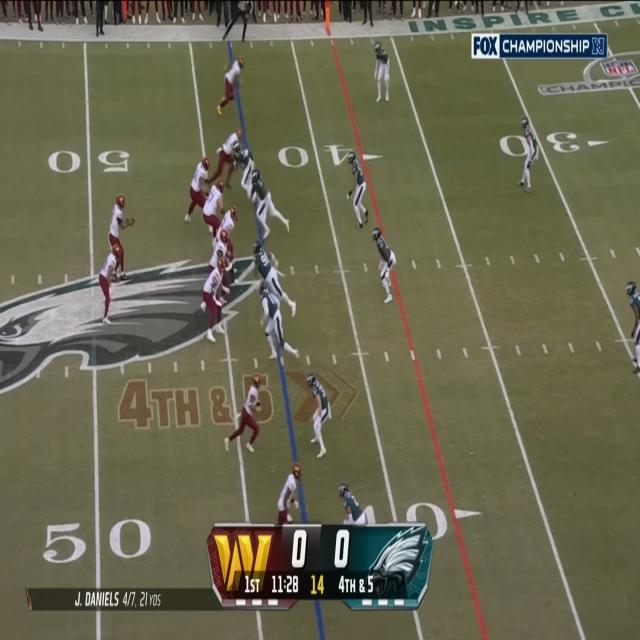Ball: (126, 216, 136, 227)
